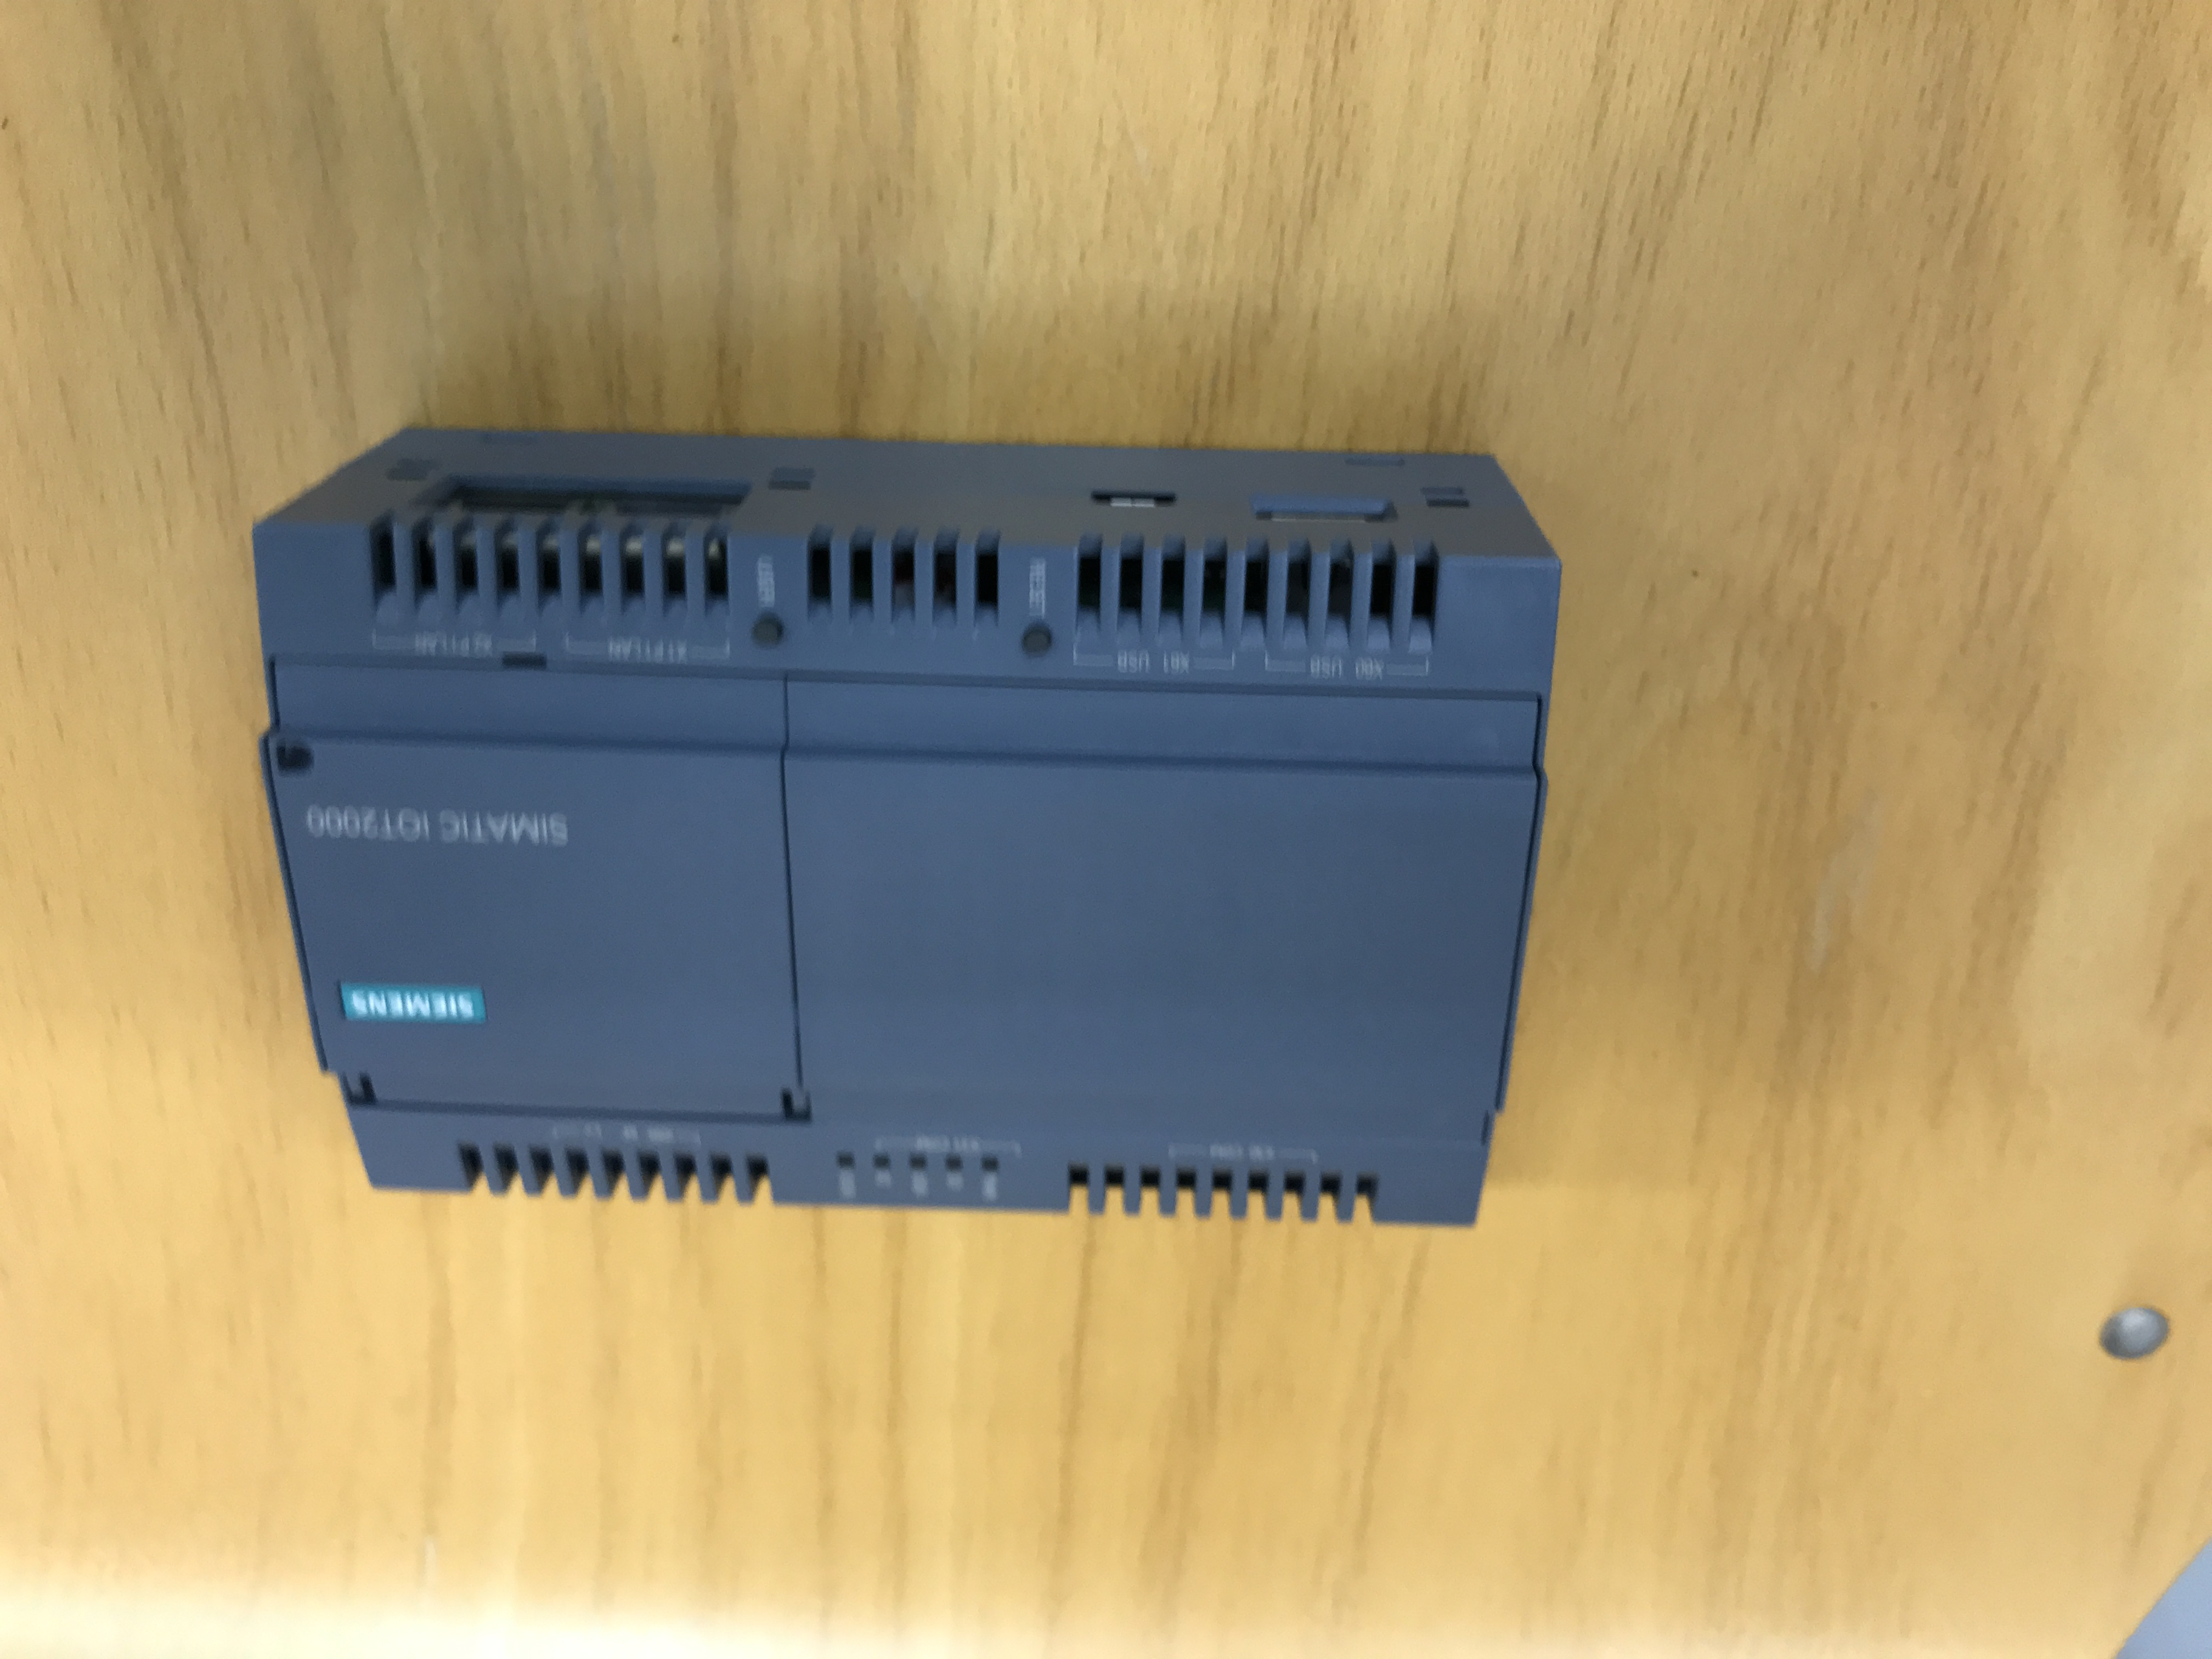device: (251, 425, 1562, 1227)
